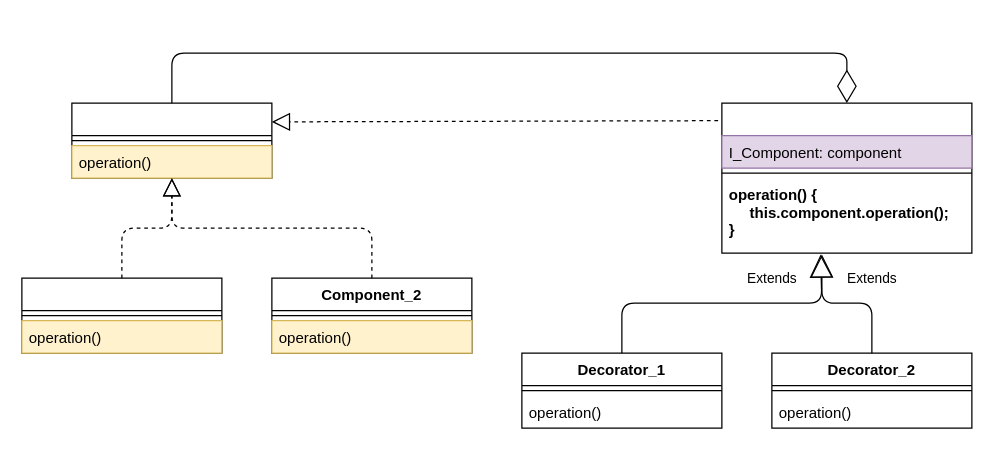
Image size: 994x454. Some labels were removed from this diagram. The shapes that lost their labels are listed below. From the top down, each one's box as (x1, y1, x2, y2) in pixels, then its label:
(71, 102, 272, 178): I_Component
(721, 102, 972, 253): Decorator
(21, 277, 222, 353): Component_1
